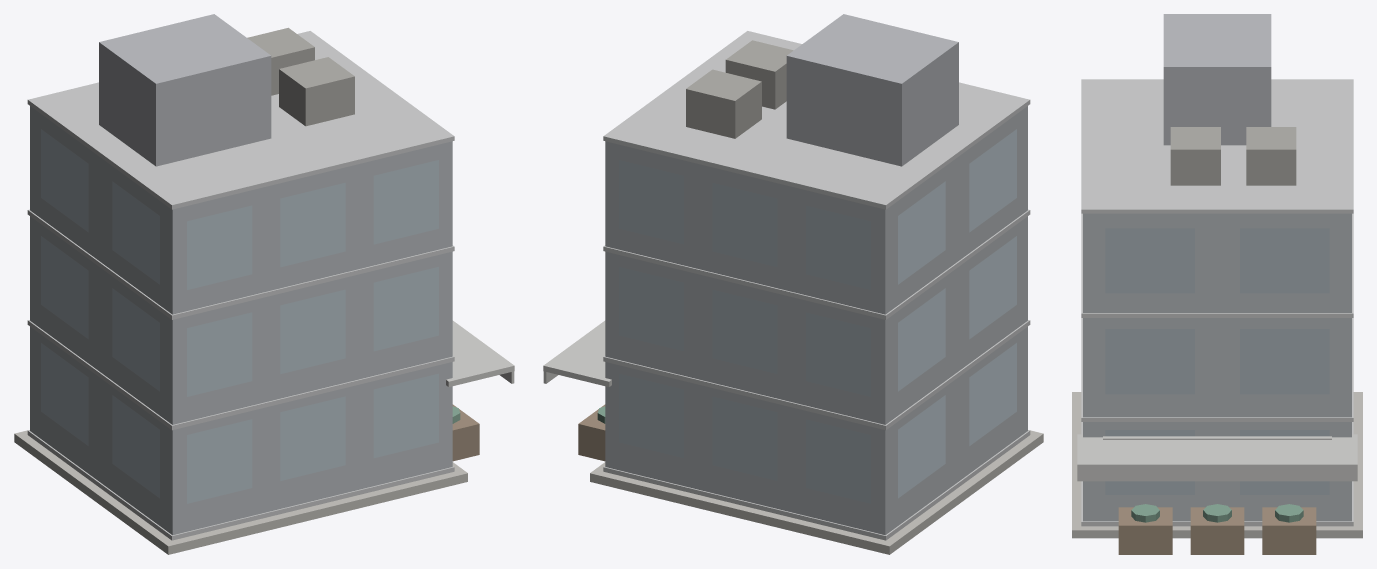
Rendered from 12_food_market-08.glb.
3 views of the same model, side by side, from view 1: azimuth 30°, elevation 25°; view 2: azimuth 150°, elevation 25°; view 3: azimuth 270°, elevation 25° (orthographic). The views are drawn at different scales.
Size of the model in its own units: 10.6 by 12.38 by 8.1.
